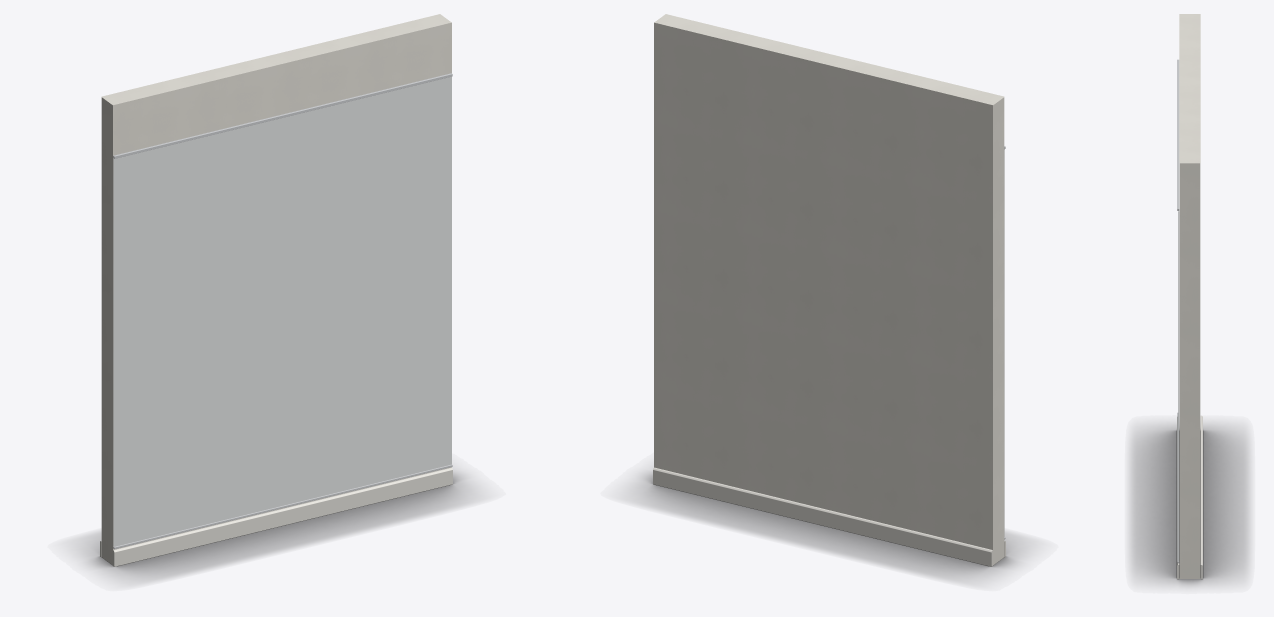
Rendered from wall_mirror.glb.
3 renders of one model, left to right at view 1: azimuth 30°, elevation 25°; view 2: azimuth 150°, elevation 25°; view 3: azimuth 270°, elevation 25°, orthographic. The views are drawn at different scales.
Parts seen in each view (by area): view 1: wall_mirror_LOD0, wall_mirror_Shadow; view 2: wall_mirror_LOD0, wall_mirror_Shadow; view 3: wall_mirror_Shadow, wall_mirror_LOD0.
Part boxes in pixels (bbox=[...]): wall_mirror_LOD0: bbox=[100, 14, 452, 566]; wall_mirror_Shadow: bbox=[81, 471, 472, 580]; wall_mirror_LOD0: bbox=[653, 14, 1005, 566]; wall_mirror_Shadow: bbox=[634, 471, 1025, 580]; wall_mirror_Shadow: bbox=[1131, 424, 1248, 585]; wall_mirror_LOD0: bbox=[1177, 14, 1202, 579].
Size of what is drawn, in the model's own units: 2.64 by 2.6 by 0.788.
5 materials, 2 textured.
